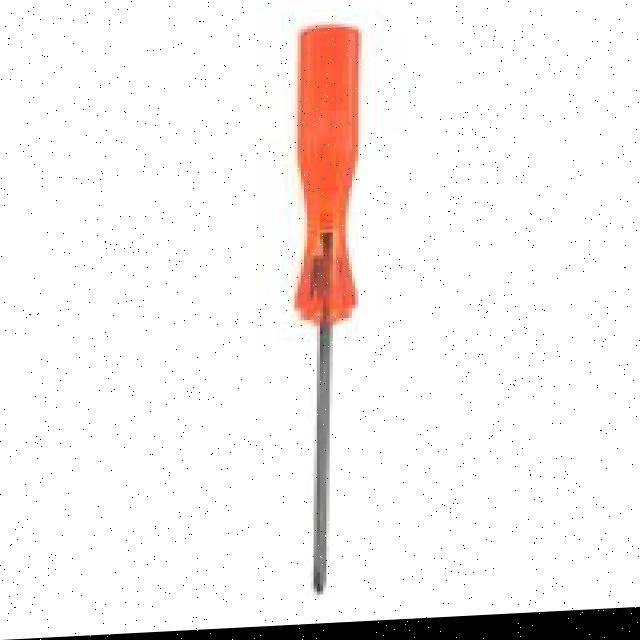Screwdriver: (298, 31, 362, 596)
